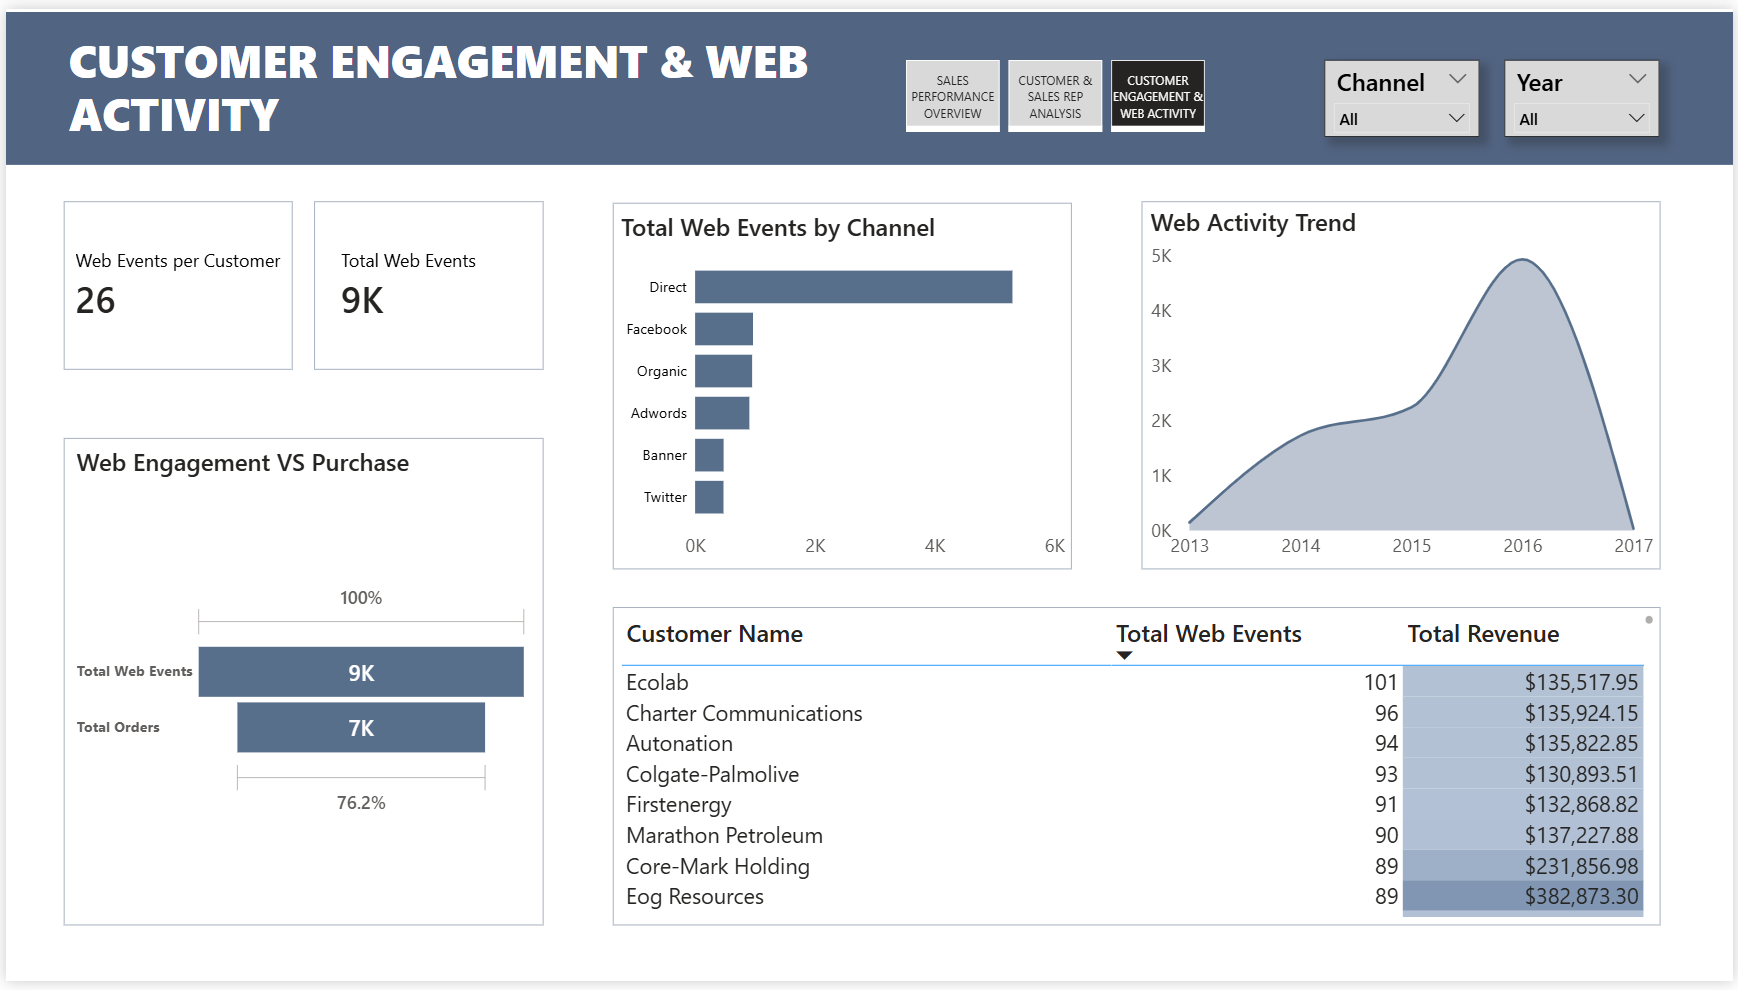

What the dashboard file says about the page in this screenshot:
{"tool":"powerbi","page":{"name":"CUSTOMER ENGAGEMENT & WEB ACTIVITY","canvas":[1920,1080],"ordinal":2},"visuals":[{"type":"cardVisual","fields":{"Data":["dax_measures.Total Web Events"]},"box":[343.3,211.7,253.3,190],"z":0},{"type":"cardVisual","fields":{"Data":["dax_measures.Events per Customer"]},"box":[48.3,211.7,320,190],"z":1000},{"type":"clusteredBarChart","fields":{"Y":["dax_measures.Total Web Events"],"Category":["web_events.channel"]},"box":[678.3,223.3,503.3,396.7],"z":2000},{"type":"lineChart","title":"Web Activity Trend","fields":{"Y":["dax_measures.Total Web Events"],"Category":["calender table.Year"]},"box":[1266.7,218.3,568.3,401.7],"z":3000},{"type":"tableEx","fields":{"Values":["accounts.name","dax_measures.Total Web Events","dax_measures.Total Revenue"]},"box":[678.3,668.3,1156.7,345],"z":4000},{"type":"funnel","title":"Web Engagement VS Purchase","fields":{"Y":["dax_measures.Total Web Events","dax_measures.Total Orders"]},"box":[73.3,485,511.7,528.3],"z":5000},{"type":"slicer","fields":{"Values":["web_events.channel"]},"box":[1464.5,56.7,171.7,85],"z":6000},{"type":"slicer","fields":{"Values":["calender table.Year"]},"box":[1665,56.7,171.7,85],"z":7000},{"type":"pageNavigator","box":[1000,56.7,333.3,80],"z":8000}]}

Visuals, with their boxes in screenshot pixels (x1, y1, x2, y2), scaled from the page's 1920x1080 canvas onto the 1738x990 screenshot:
cardVisual - dax_measures.Total Web Events: <region>311, 194, 540, 368</region>
cardVisual - dax_measures.Events per Customer: <region>44, 194, 333, 368</region>
clusteredBarChart - dax_measures.Total Web Events x web_events.channel: <region>614, 205, 1070, 568</region>
"Web Activity Trend" lineChart: <region>1147, 200, 1661, 568</region>
tableEx - accounts.name x dax_measures.Total Web Events: <region>614, 613, 1661, 929</region>
"Web Engagement VS Purchase" funnel: <region>66, 445, 530, 929</region>
slicer - web_events.channel: <region>1326, 52, 1481, 130</region>
slicer - calender table.Year: <region>1507, 52, 1663, 130</region>
pageNavigator: <region>905, 52, 1207, 125</region>
